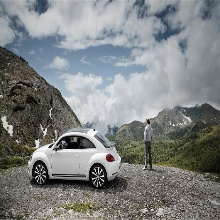no damage: (27, 129, 123, 189)
